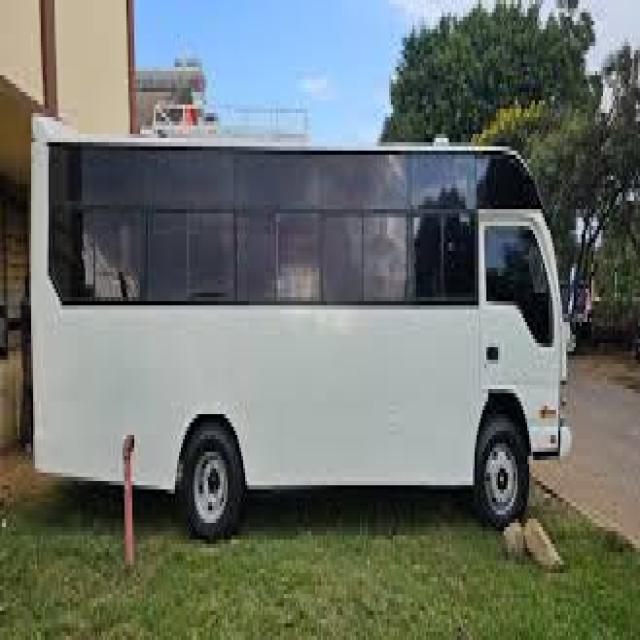bus: (18, 27, 595, 574)
